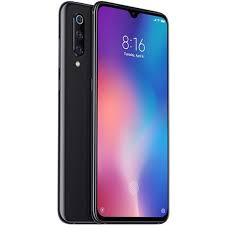mi: (88, 1, 173, 223)
